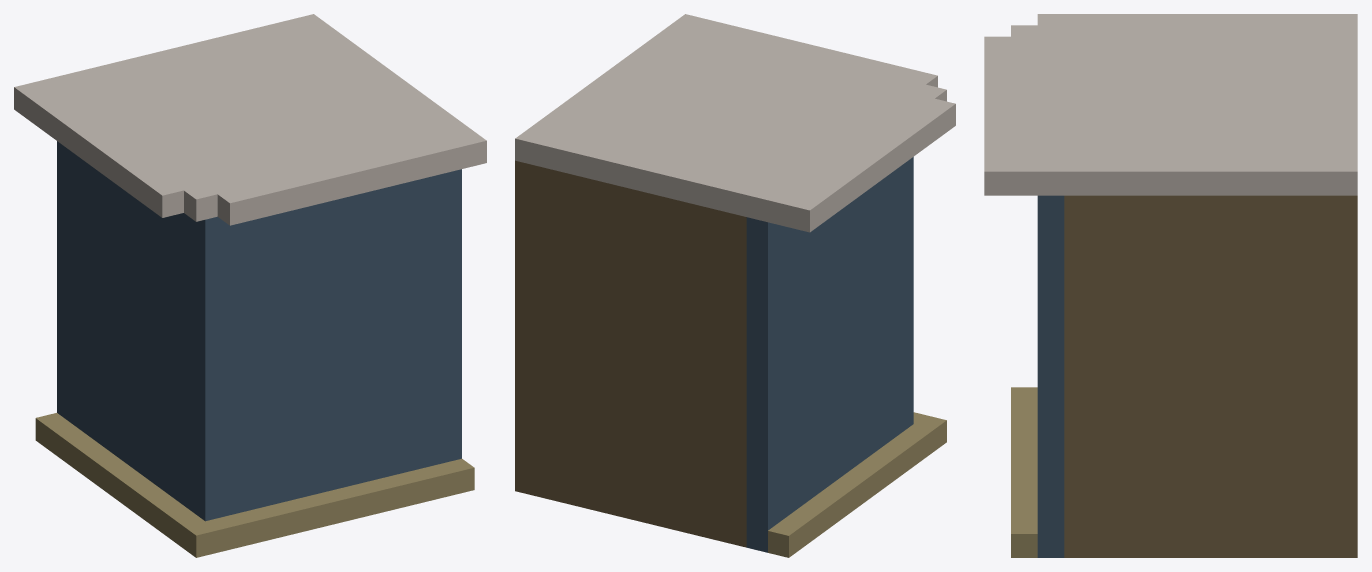
File: CounterCornerOut1.obj
3 views of the same model, side by side, from view 1: azimuth 30°, elevation 25°; view 2: azimuth 150°, elevation 25°; view 3: azimuth 270°, elevation 25° (orthographic). The views are drawn at different scales.
Parts seen in each view (by area): view 1: CounterCornerOut1; view 2: CounterCornerOut1; view 3: CounterCornerOut1.
Part boxes in pixels (x1,y1,x2,y2): CounterCornerOut1: (14, 14, 486, 557); CounterCornerOut1: (515, 14, 955, 557); CounterCornerOut1: (984, 14, 1357, 557).
Size of the model in its own units: 14 by 16 by 14.
Materials: 1 (1 with a texture image).
